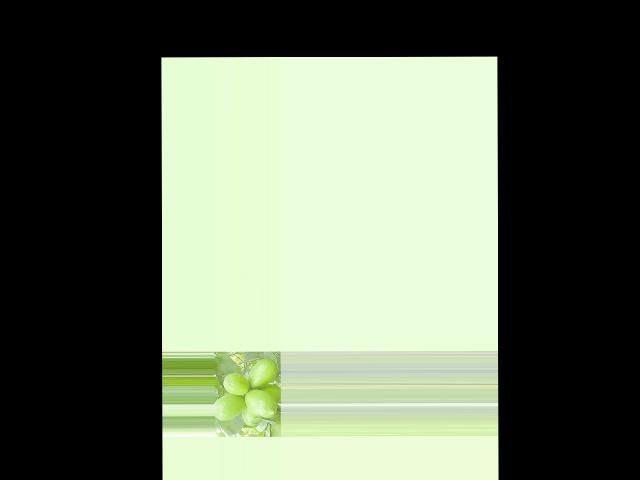lemon: (247, 357, 276, 390)
